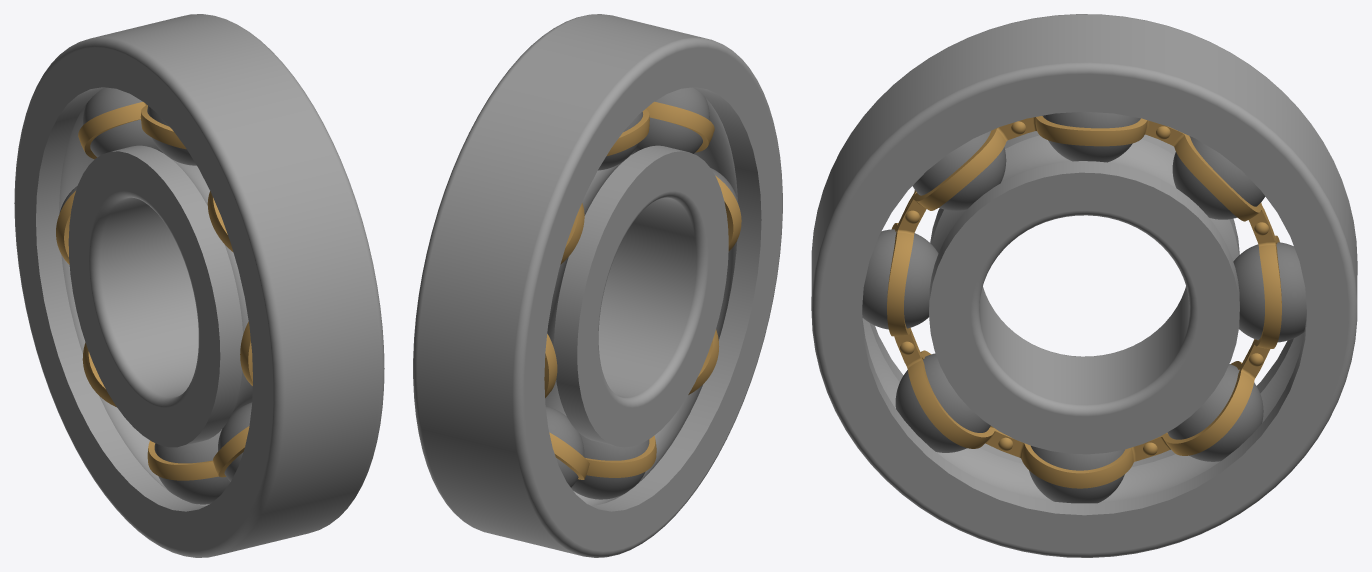
Rendered from bearing_model.gltf.
3 renders of one model, left to right at view 1: azimuth 30°, elevation 25°; view 2: azimuth 150°, elevation 25°; view 3: azimuth 270°, elevation 25°, orthographic. The views are drawn at different scales.
Parts seen in each view (by area): view 1: Pista esterna-1, Pista interna-1, Gabbia-2, Sfera-6, Sfera-3, Sfera-7, Sfera-2; view 2: Pista esterna-1, Pista interna-1, Gabbia-2, Sfera-1, Sfera-6, Sfera-5, Sfera-2; view 3: Pista esterna-1, Pista interna-1, Gabbia-1, Sfera-4, Sfera-8, Sfera-7, Sfera-5, Sfera-3, Sfera-1, Sfera-6, Sfera-2.
Boxes of the visible parts, x1=… form: Pista esterna-1: x1=14, y1=14, x2=384, y2=557; Pista interna-1: x1=68, y1=145, x2=252, y2=447; Gabbia-2: x1=56, y1=102, x2=252, y2=480; Sfera-6: x1=154, y1=429, x2=230, y2=504; Sfera-3: x1=82, y1=87, x2=162, y2=157; Sfera-7: x1=218, y1=402, x2=252, y2=481; Sfera-2: x1=147, y1=106, x2=196, y2=165; Pista esterna-1: x1=413, y1=14, x2=782, y2=557; Pista interna-1: x1=545, y1=145, x2=728, y2=447; Gabbia-2: x1=544, y1=101, x2=741, y2=479; Sfera-1: x1=631, y1=87, x2=709, y2=154; Sfera-6: x1=571, y1=434, x2=649, y2=499; Sfera-5: x1=545, y1=406, x2=584, y2=487; Sfera-2: x1=598, y1=112, x2=642, y2=170; Pista esterna-1: x1=811, y1=14, x2=1357, y2=557; Pista interna-1: x1=929, y1=131, x2=1239, y2=454; Gabbia-1: x1=887, y1=116, x2=1281, y2=488; Sfera-4: x1=1233, y1=242, x2=1306, y2=342; Sfera-8: x1=862, y1=229, x2=938, y2=329; Sfera-7: x1=895, y1=353, x2=990, y2=452; Sfera-5: x1=1167, y1=364, x2=1263, y2=461; Sfera-3: x1=1172, y1=136, x2=1265, y2=219; Sfera-1: x1=912, y1=131, x2=1006, y2=210; Sfera-6: x1=1029, y1=446, x2=1124, y2=503; Sfera-2: x1=1042, y1=111, x2=1140, y2=162.
Bounding box in the file's own units: 0.031 × 0.13 × 0.13.
